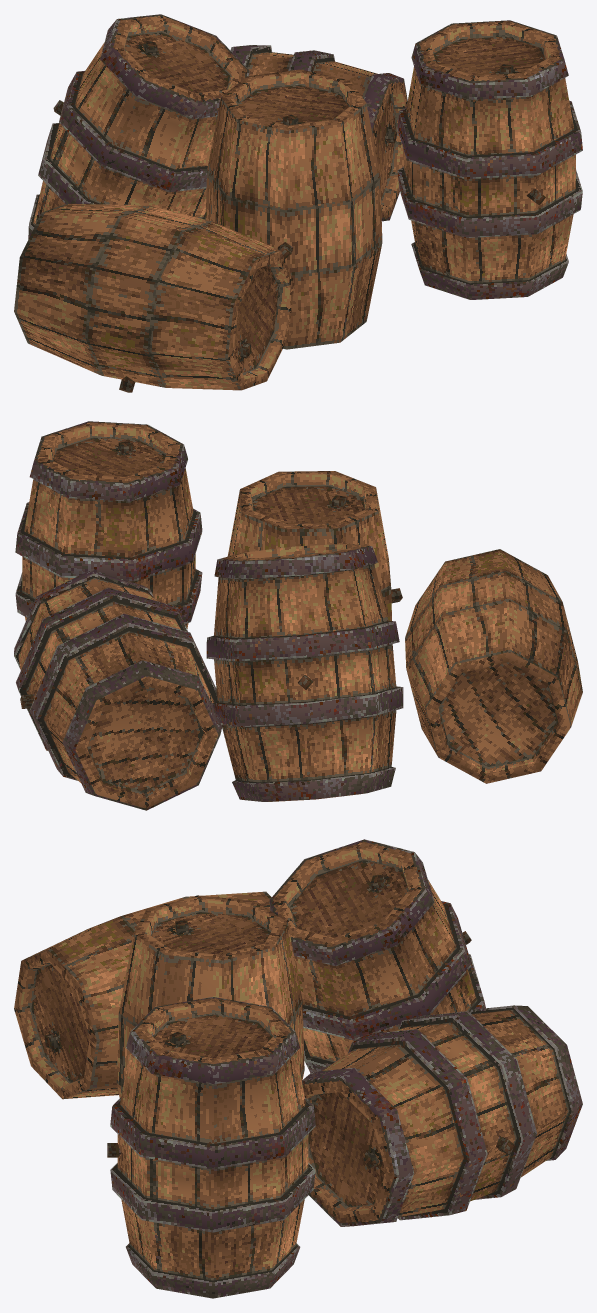
The model's file is barrel_of_gunpowder.glb.
The picture shows the model from 3 angles, top to bottom: view 1: azimuth 30°, elevation 25°; view 2: azimuth 150°, elevation 25°; view 3: azimuth 270°, elevation 25°; orthographic projection. The views are drawn at different scales.
Parts seen in each view (by area): view 1: TynnyriLopoly.005; view 2: TynnyriLopoly.005; view 3: TynnyriLopoly.005.
Boxes of the visible parts, x1=… form: TynnyriLopoly.005: x1=14, y1=14, x2=582, y2=392; TynnyriLopoly.005: x1=14, y1=421, x2=582, y2=810; TynnyriLopoly.005: x1=14, y1=839, x2=582, y2=1298.
Bounding box in the file's own units: 1270 × 557 × 1062.
1 material, 1 textured.
